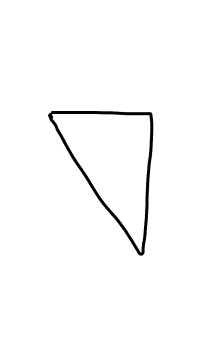Triangle: (43, 105, 156, 257)
